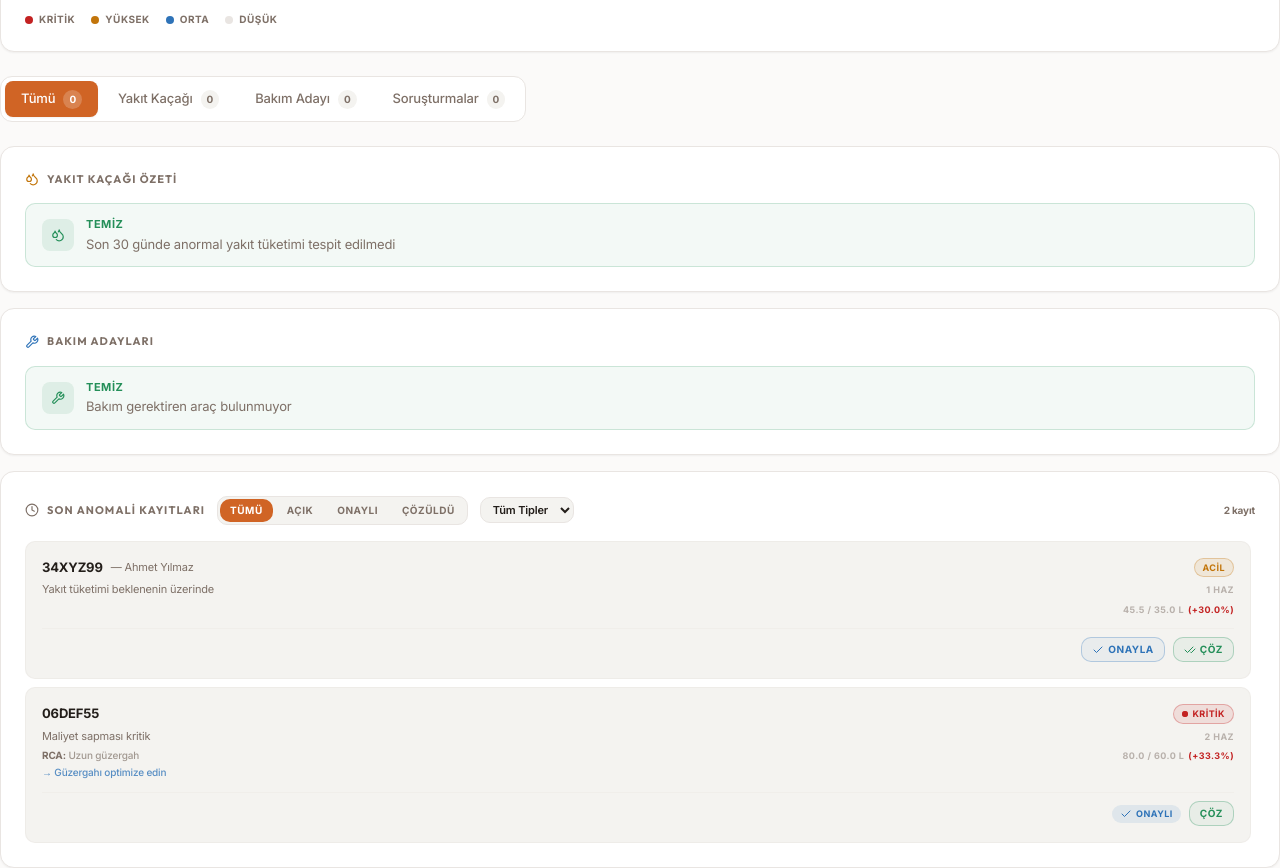
Test: AlertsPage (mocked) › resolve modal closes when X button is clicked
(page scrolled)
Click the button "Çöz" below "45.5": coordinates (1203, 650) [1173,637,1234,662]
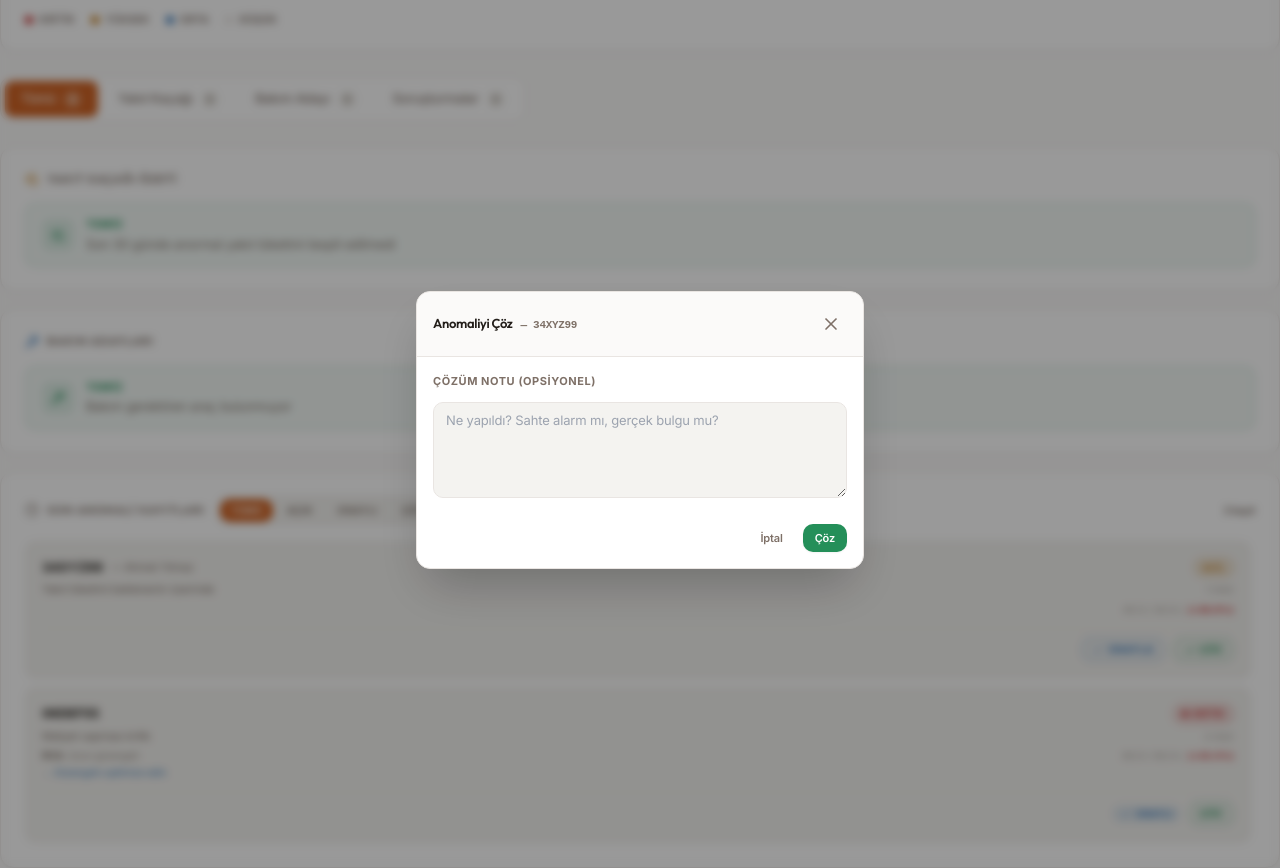
Now the button named "Kapat" is shown
Click the button named "Kapat": coordinates (831, 324) [815,308,847,340]
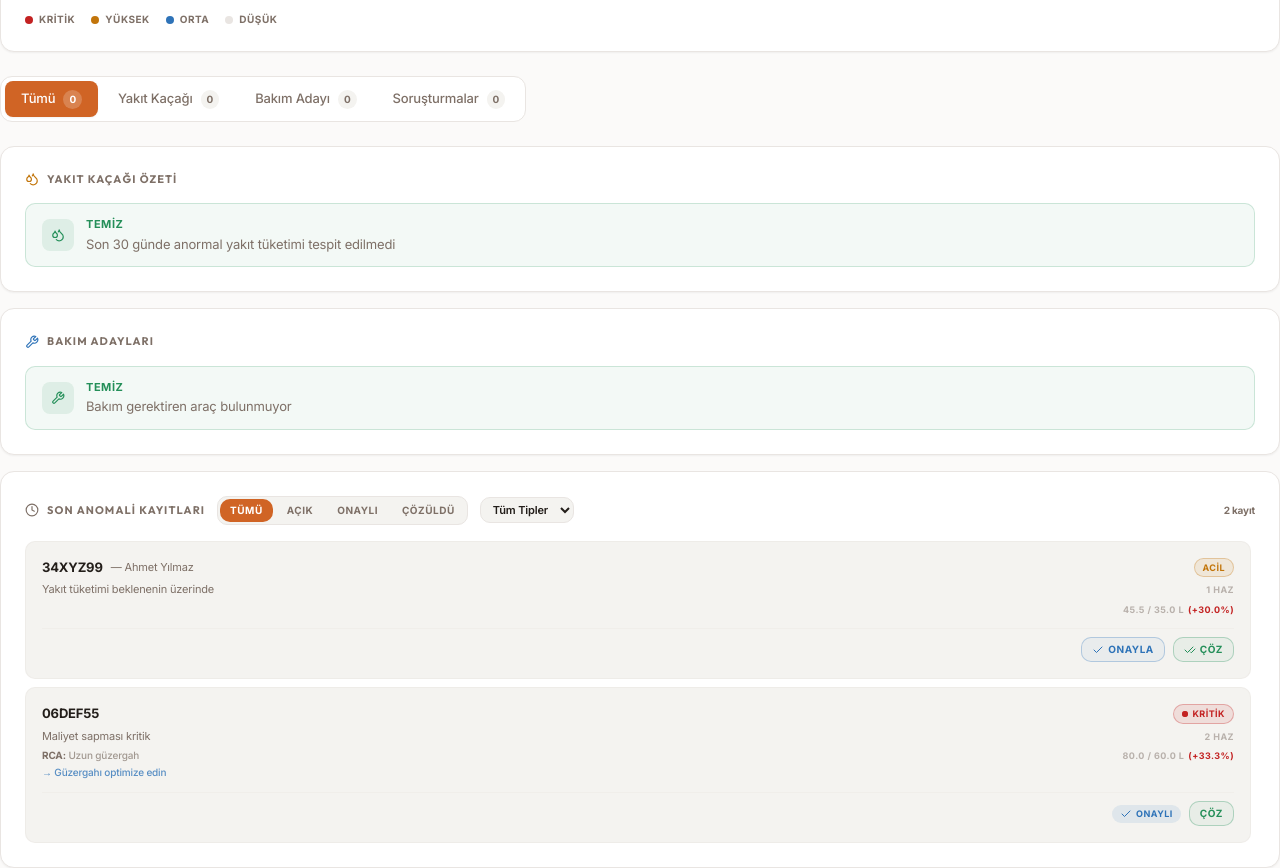
Now the heading "Anomaliyi Çöz" is gone
